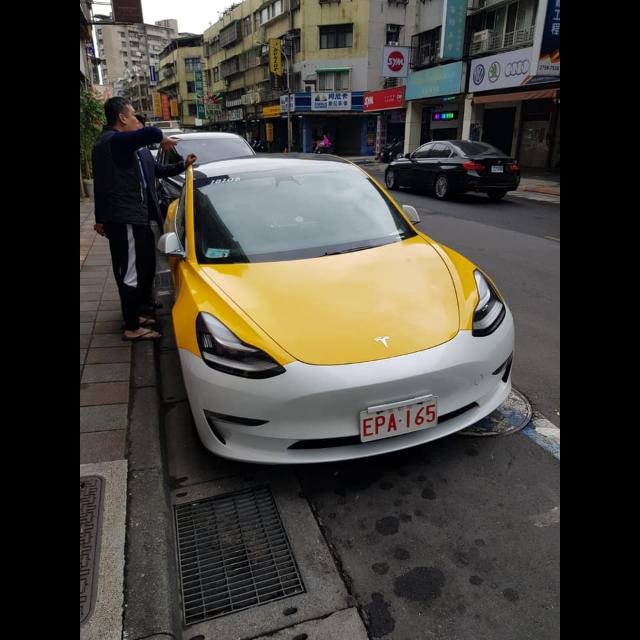plate: (360, 396, 438, 442)
